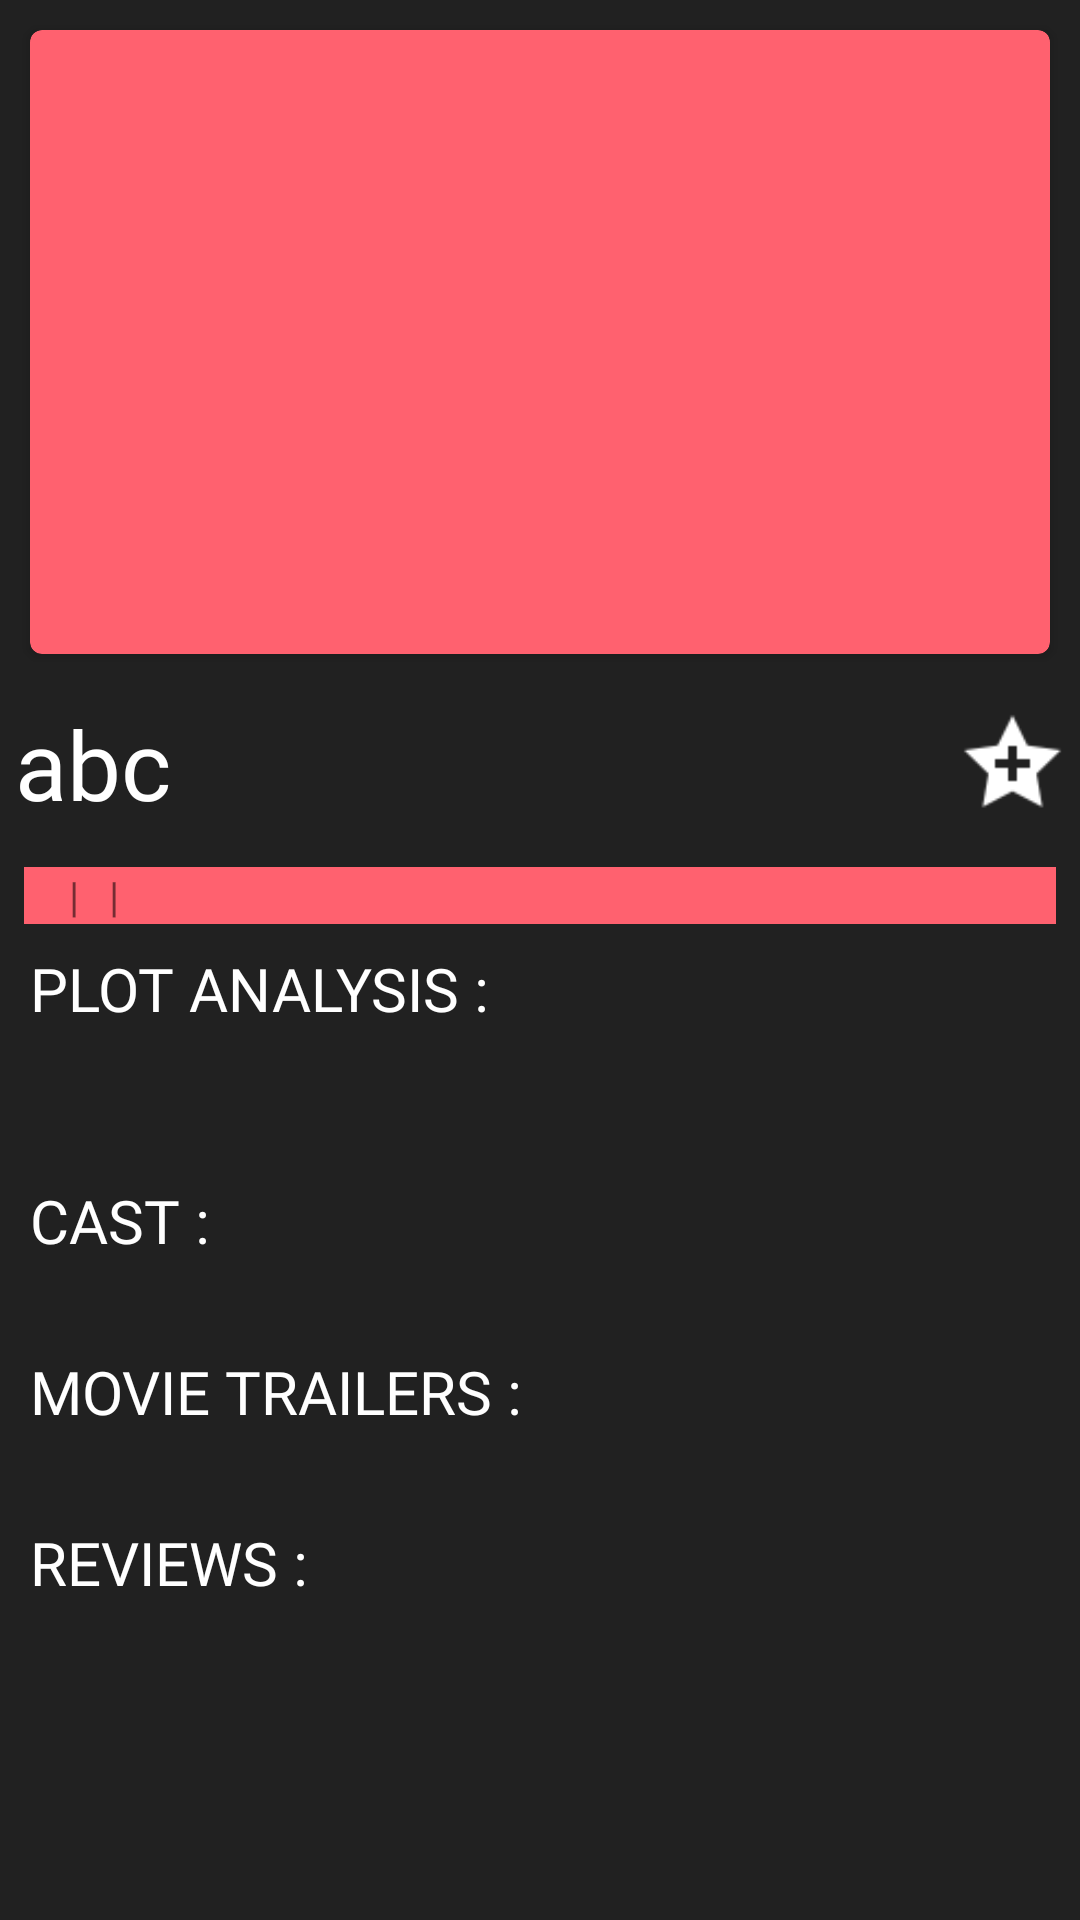

Named icons in this screenshot (1080px×1920px) and their centers, (x=x, y=y):
favorite unsel: (x=1012, y=761)
